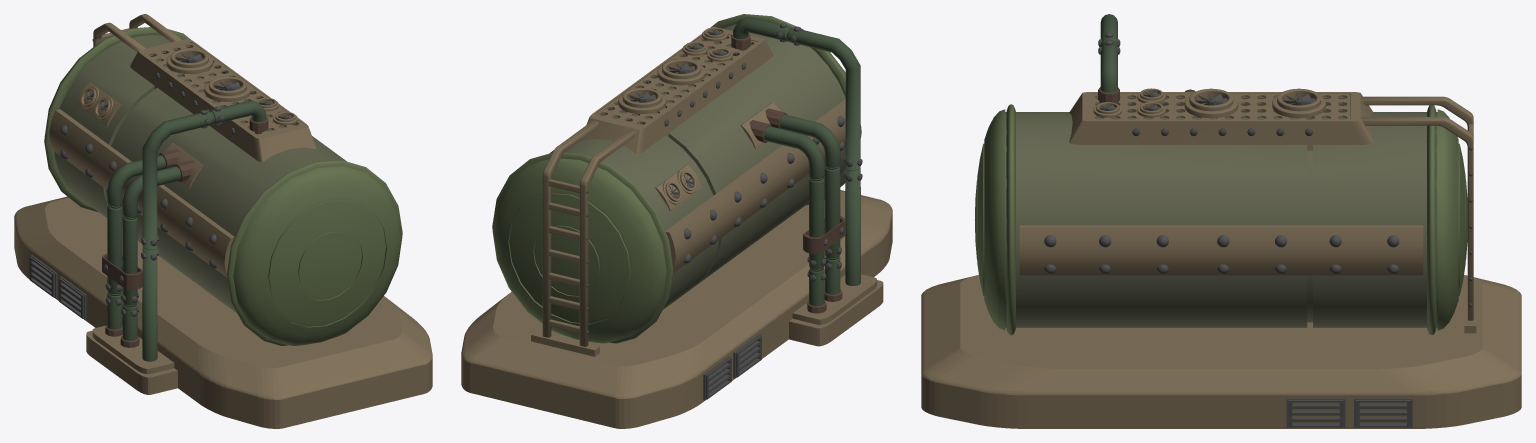
The model's file is gastank.fbx.
3 renders of one model, left to right at view 1: azimuth 30°, elevation 25°; view 2: azimuth 150°, elevation 25°; view 3: azimuth 270°, elevation 25°, orthographic. The views are drawn at different scales.
Visible parts, largest first — view 1: base, tankcover, tankbody, pipe, tankdec, tankover, pipebase, fancover, plane, bolt, vent, ladder (+3 smaller); view 2: base, tankcover, tankbody, pipe, tankdec, ladder, tankover, pipebase, fancover, plane, bolt, vent (+3 smaller); view 3: base, tankbody, tankdec, tankcover, tankover, plane, ladder, fancover, vent, bolt, pipe, fan.
Part boxes in pixels (<box>): base: <box>14,196,432,428</box>; tankcover: <box>44,27,402,345</box>; tankbody: <box>54,35,346,312</box>; pipe: <box>107,100,266,361</box>; tankdec: <box>49,82,234,277</box>; tankover: <box>130,38,316,162</box>; pipebase: <box>86,325,177,394</box>; fancover: <box>80,48,297,125</box>; plane: <box>145,43,301,135</box>; bolt: <box>60,39,276,316</box>; vent: <box>29,255,86,319</box>; ladder: <box>93,14,181,52</box>; base: <box>461,190,892,428</box>; tankcover: <box>492,14,861,343</box>; tankbody: <box>550,24,845,309</box>; pipe: <box>733,16,860,306</box>; tankdec: <box>655,99,845,272</box>; ladder: <box>542,120,635,346</box>; tankover: <box>581,26,772,154</box>; pipebase: <box>531,274,883,356</box>; fancover: <box>618,27,732,204</box>; plane: <box>595,33,757,126</box>; bolt: <box>542,23,862,333</box>; vent: <box>703,333,761,400</box>; base: <box>921,275,1521,428</box>; tankbody: <box>1005,112,1437,327</box>; tankdec: <box>1019,225,1423,275</box>; tankcover: <box>975,104,1467,335</box>; tankover: <box>1069,92,1373,150</box>; plane: <box>1092,93,1350,120</box>; ladder: <box>1361,96,1473,320</box>; fancover: <box>1093,88,1325,118</box>; vent: <box>1286,398,1412,427</box>; bolt: <box>1044,32,1472,306</box>; pipe: <box>1100,14,1195,92</box>; fan: <box>1099,91,1314,110</box>.
Size of the model in its own units: 467 by 454 by 833.
